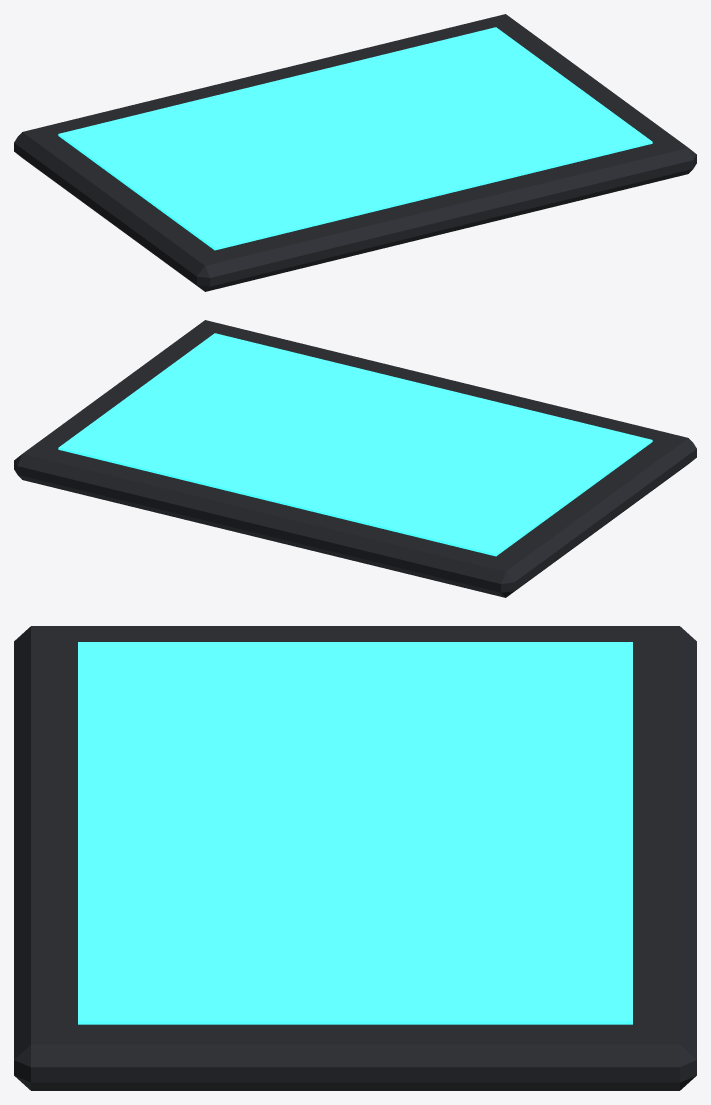
File: SM_Flot_Tableta.fbx
The picture shows the model from 3 angles, top to bottom: view 1: azimuth 30°, elevation 25°; view 2: azimuth 150°, elevation 25°; view 3: azimuth 270°, elevation 25°; orthographic projection. The views are drawn at different scales.
Visible parts, largest first — view 1: SM_Flot_Tableta; view 2: SM_Flot_Tableta; view 3: SM_Flot_Tableta.
Part boxes in pixels (x1,y1,x2,y2): SM_Flot_Tableta: (14, 14, 696, 291); SM_Flot_Tableta: (14, 320, 696, 597); SM_Flot_Tableta: (14, 626, 696, 1090).
Bounding box in the file's own units: 0.24 × 0.013 × 0.16.
